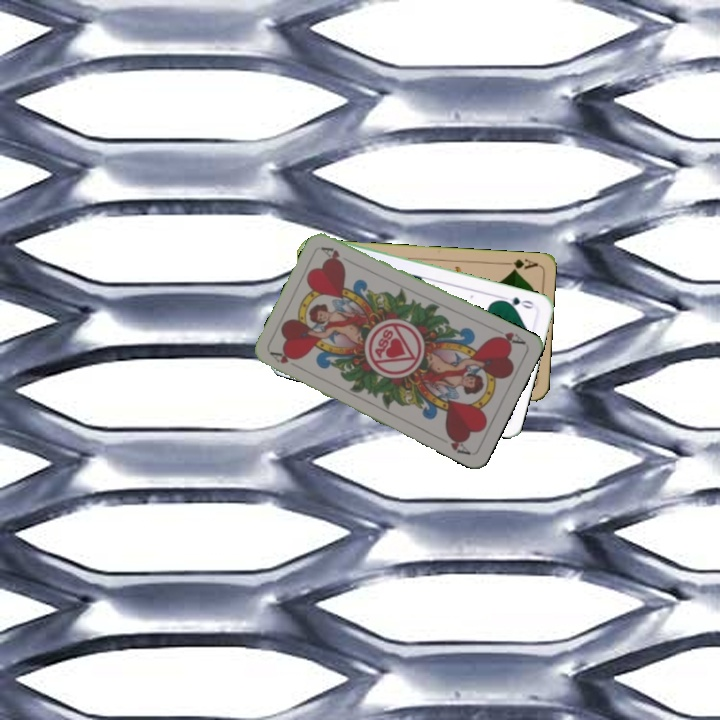GA: (499, 255, 540, 274)
GO: (498, 292, 536, 311)
HA: (267, 348, 305, 372), (489, 328, 528, 348)
